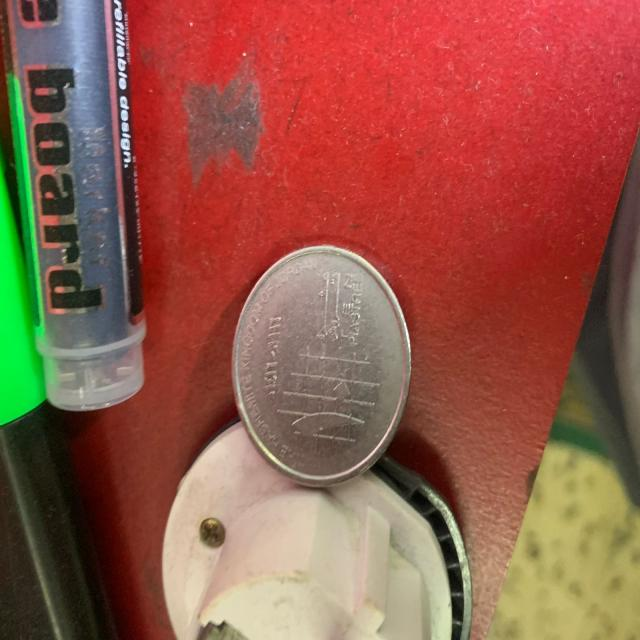10-coins: (231, 242, 413, 489)
